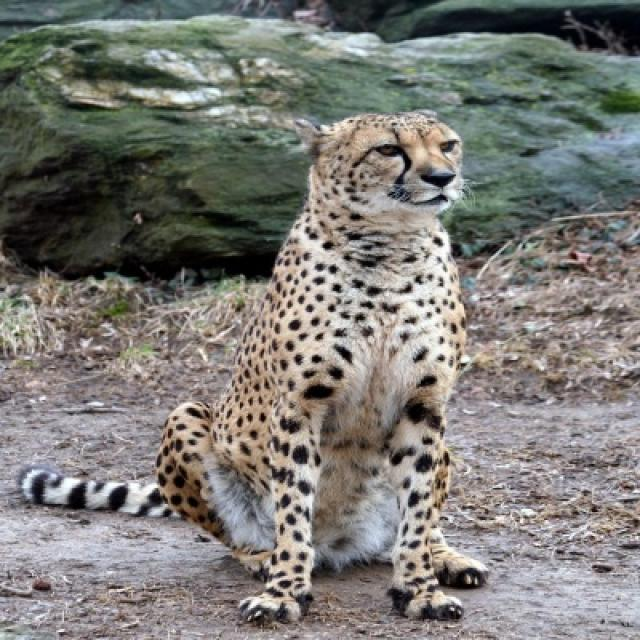Cheetah: (11, 106, 489, 625)
